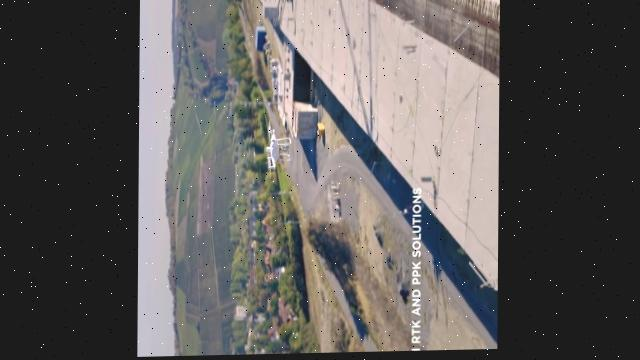drone: (264, 120, 292, 182)
